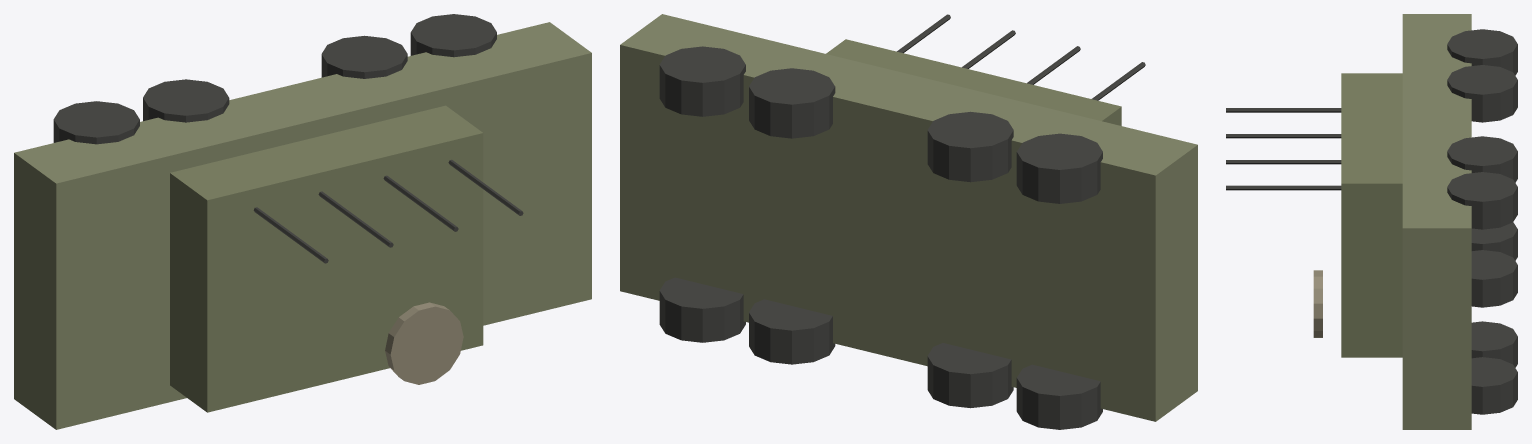
File: ew_comms.glb
The picture shows the model from 3 angles, left to right: view 1: azimuth 30°, elevation 25°; view 2: azimuth 150°, elevation 25°; view 3: azimuth 270°, elevation 25°; orthographic projection. The views are drawn at different scales.
Parts seen in each view (by area): view 1: geometry_0; view 2: geometry_0; view 3: geometry_0.
Part boxes in pixels (left/top/right/bottom): geometry_0: left=14, top=14, right=591, bottom=429; geometry_0: left=620, top=14, right=1197, bottom=429; geometry_0: left=1226, top=14, right=1517, bottom=429.
Size of the model in its own units: 6.6 by 3.06 by 3.8.
